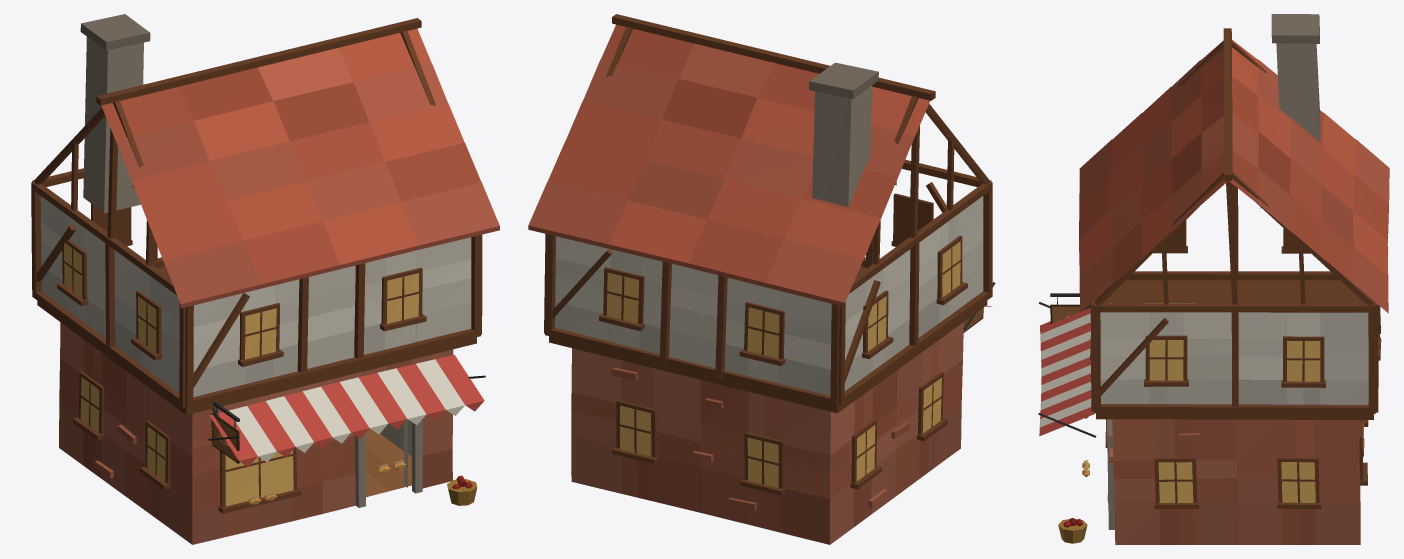
The model's file is bakery.glb.
3 renders of one model, left to right at view 1: azimuth 30°, elevation 25°; view 2: azimuth 150°, elevation 25°; view 3: azimuth 270°, elevation 25°, orthographic. The views are drawn at different scales.
Visible parts, largest first — view 1: buildings/bakery; view 2: buildings/bakery; view 3: buildings/bakery.
Part boxes in pixels (left/top/right/bottom): buildings/bakery: left=31, top=14, right=499, bottom=544; buildings/bakery: left=528, top=14, right=995, bottom=544; buildings/bakery: left=1038, top=14, right=1389, bottom=544.
Bounding box in the file's own units: 6.18 × 8.13 × 6.26.
